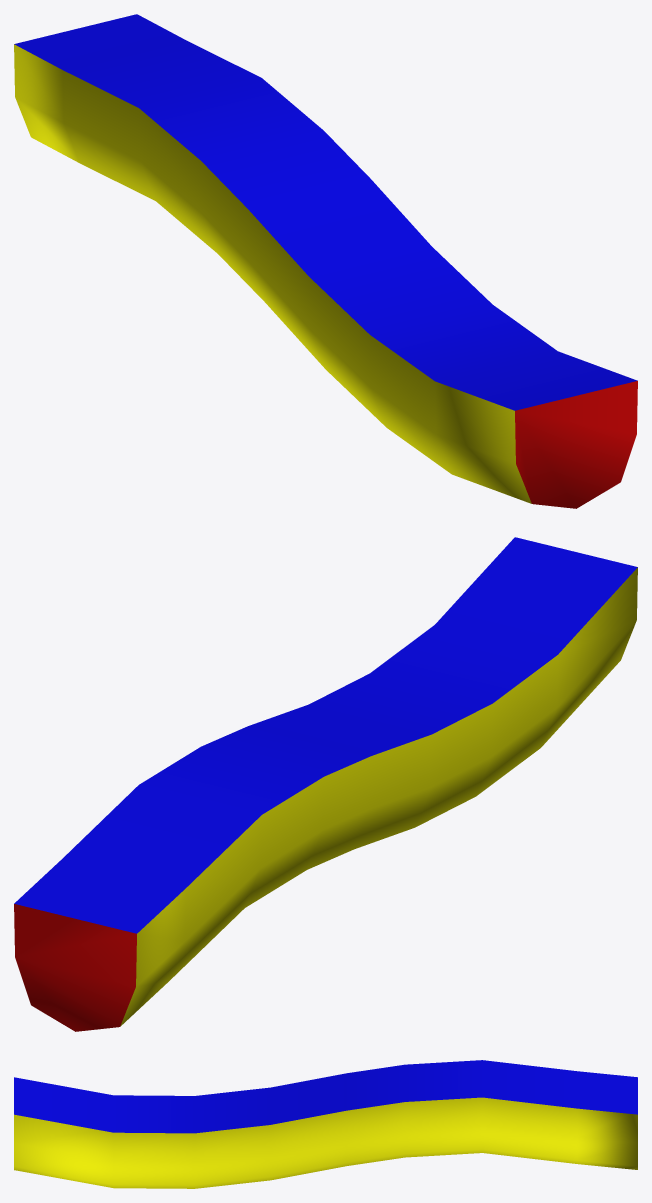
The picture shows the model from 3 angles, top to bottom: view 1: azimuth 30°, elevation 25°; view 2: azimuth 150°, elevation 25°; view 3: azimuth 270°, elevation 25°; orthographic projection. The views are drawn at different scales.
Visible parts, largest first — view 1: polySurface122; view 2: polySurface122; view 3: polySurface122.
Part boxes in pixels (bbox=[...]): polySurface122: bbox=[14, 14, 637, 508]; polySurface122: bbox=[14, 537, 637, 1031]; polySurface122: bbox=[14, 1060, 637, 1188].
Size of the model in its own units: 23.58 by 31.25 by 166.
